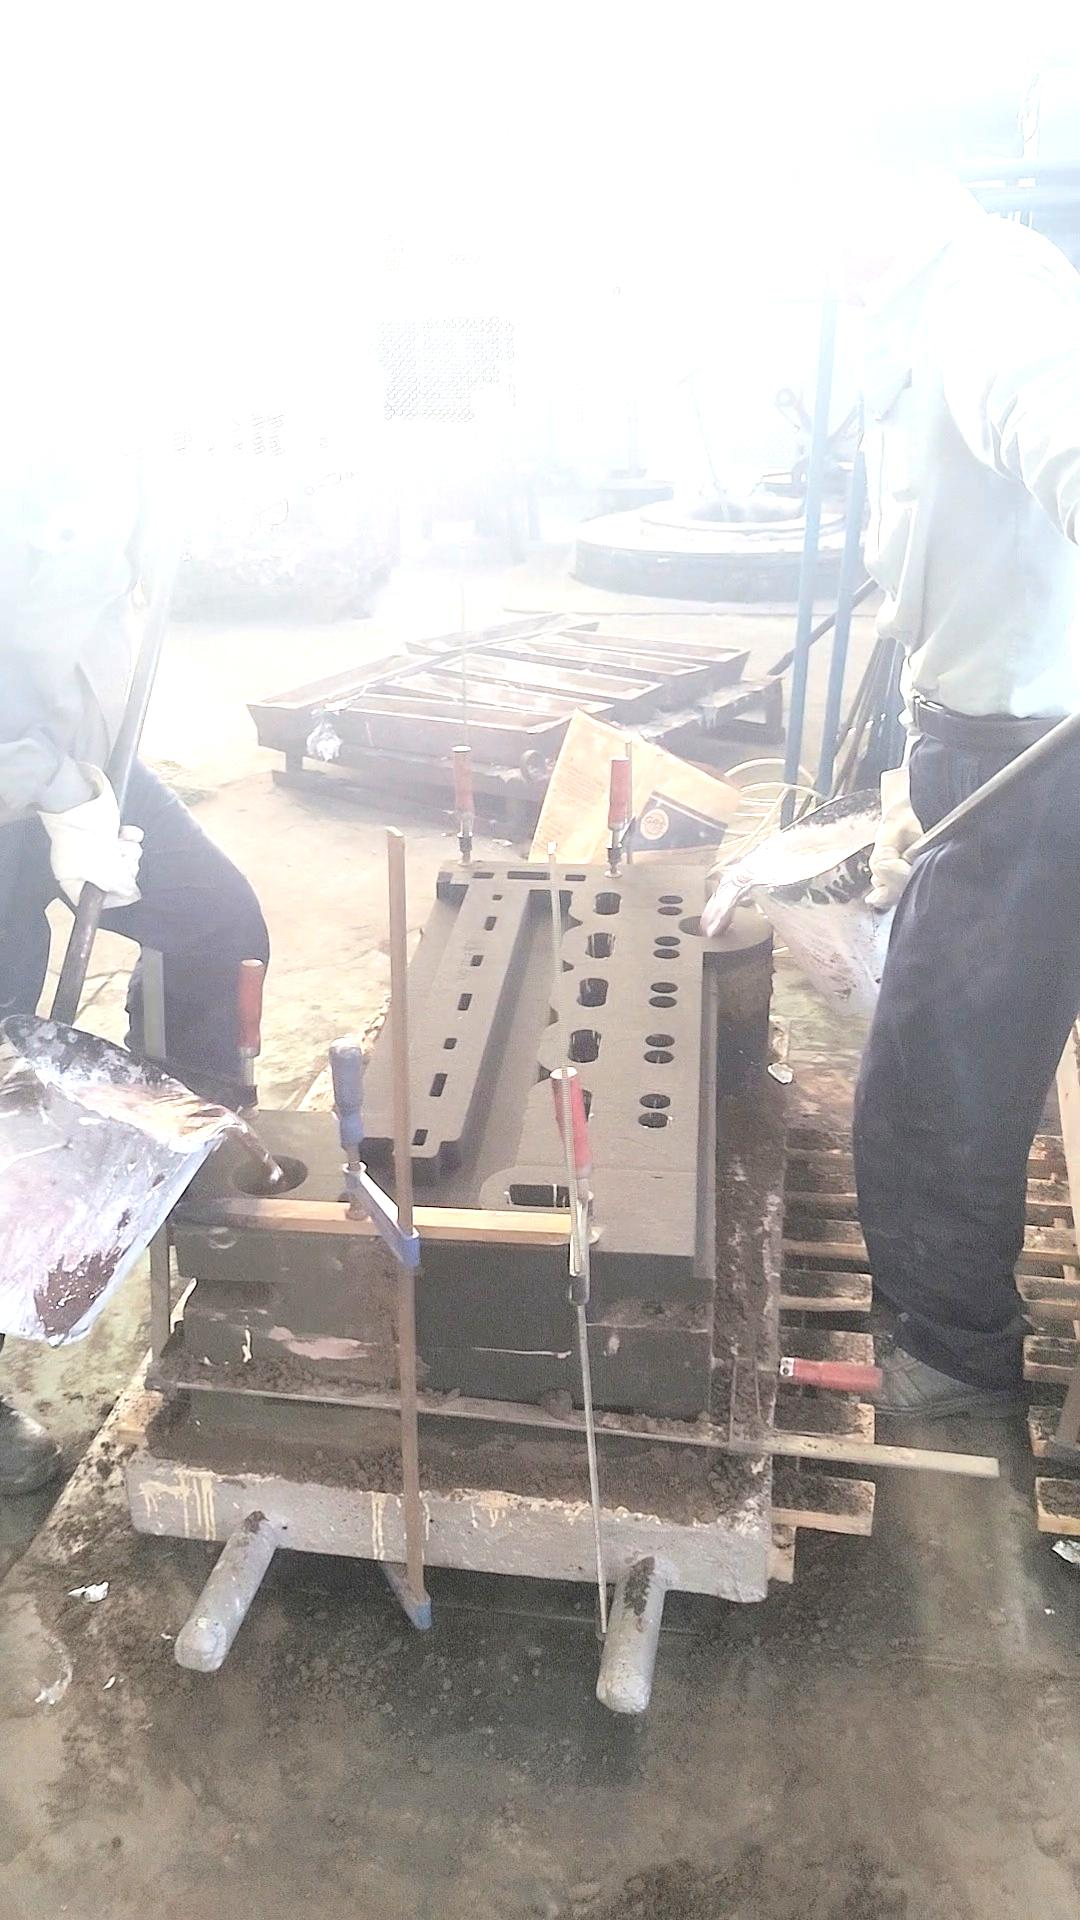pouring hole: (229, 1155, 307, 1196), (676, 915, 736, 939)
